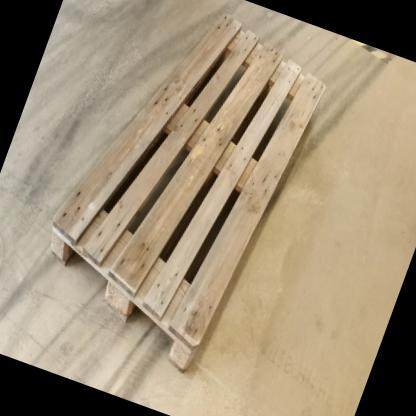BoxFace: (41, 5, 334, 386)
